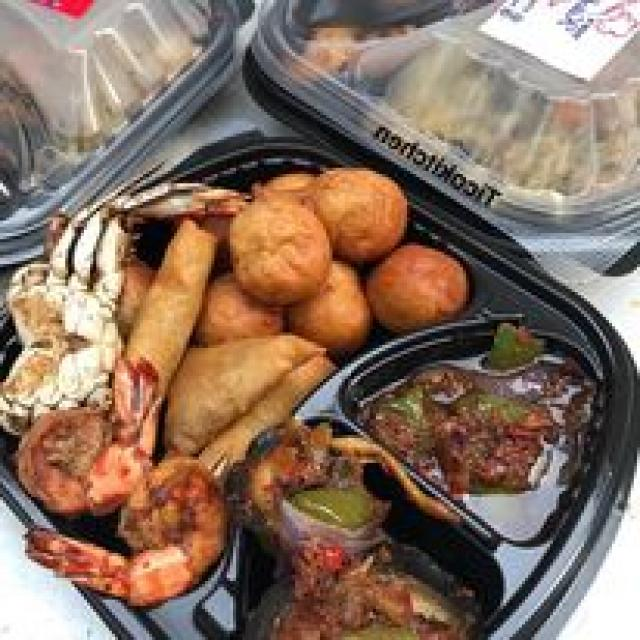Samosa: (165, 317, 345, 472)
Spring Rolls: (115, 220, 214, 394)
